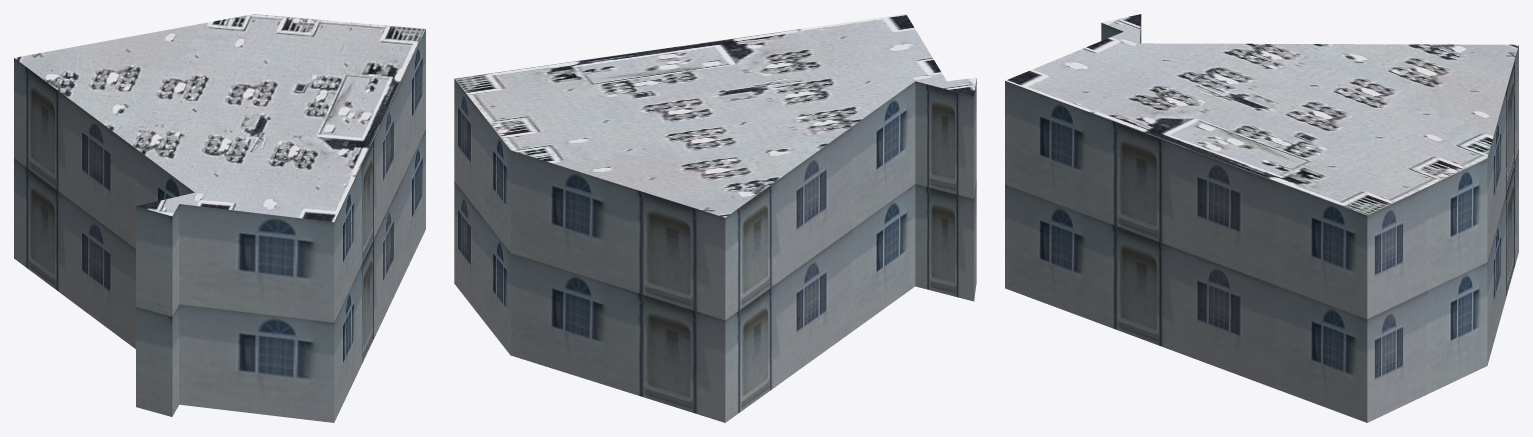
Rendered from ResTex__2885.fbx.
3 renders of one model, left to right at view 1: azimuth 30°, elevation 25°; view 2: azimuth 150°, elevation 25°; view 3: azimuth 270°, elevation 25°, orthographic. The views are drawn at different scales.
Visible parts, largest first — view 1: CityEngineMaterial_17_m, CityEngineMaterial_8_m; view 2: CityEngineMaterial_17_m, CityEngineMaterial_8_m; view 3: CityEngineMaterial_17_m, CityEngineMaterial_8_m.
Part boxes in pixels (<box>): CityEngineMaterial_17_m: <box>14,29,425,422</box>; CityEngineMaterial_8_m: <box>14,14,425,222</box>; CityEngineMaterial_17_m: <box>454,78,976,422</box>; CityEngineMaterial_8_m: <box>454,14,976,217</box>; CityEngineMaterial_17_m: <box>1005,18,1518,422</box>; CityEngineMaterial_8_m: <box>1005,14,1518,215</box>.
Size of the model in its own units: 12.49 by 6 by 13.46.
2 materials, 2 textured.
